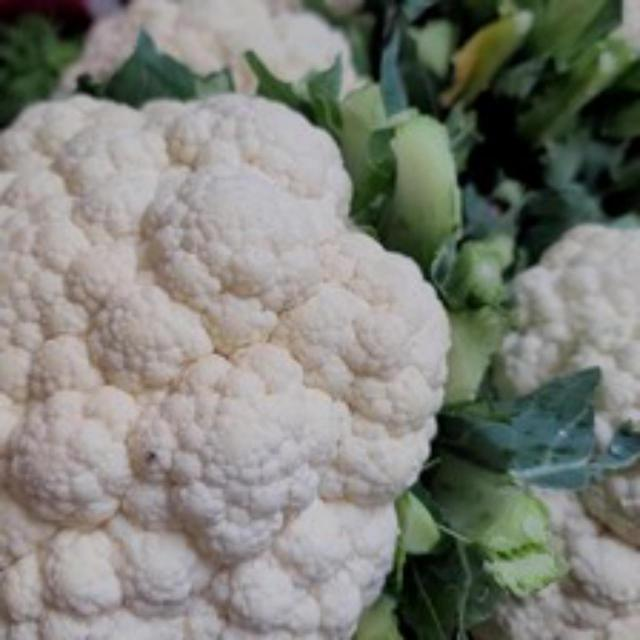cauliflower: (0, 80, 468, 637)
